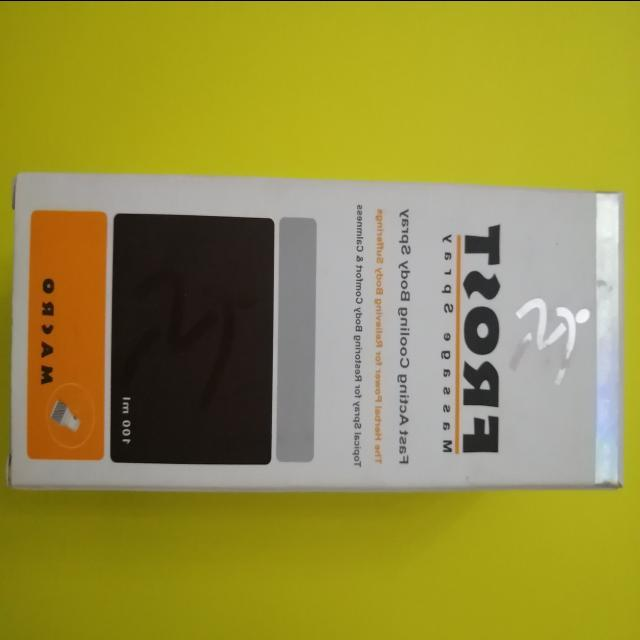Medicine Name: (459, 218, 511, 468)
